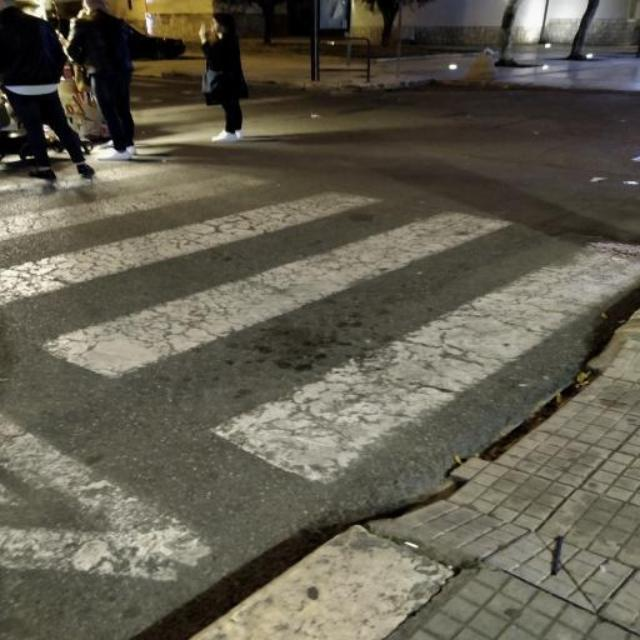sidewalk: (2, 142, 640, 528)
